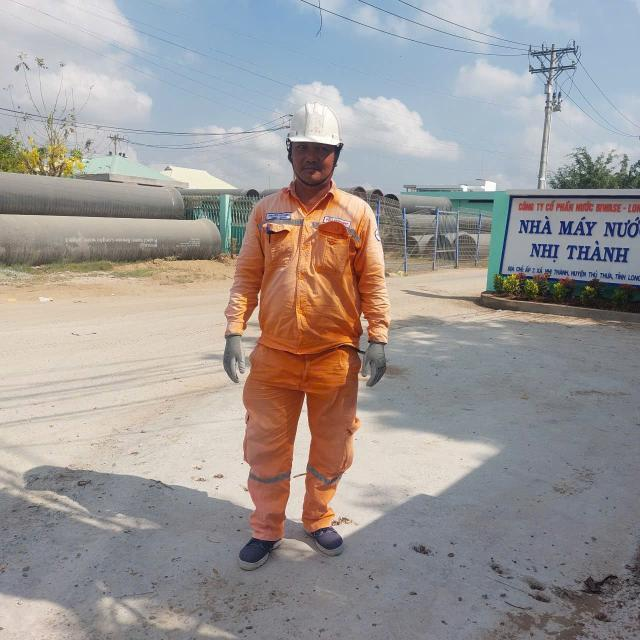gloves: (206, 325, 256, 391), (351, 331, 398, 392)
helmet: (285, 98, 354, 158)
shoes: (233, 519, 293, 568), (298, 516, 348, 560)
